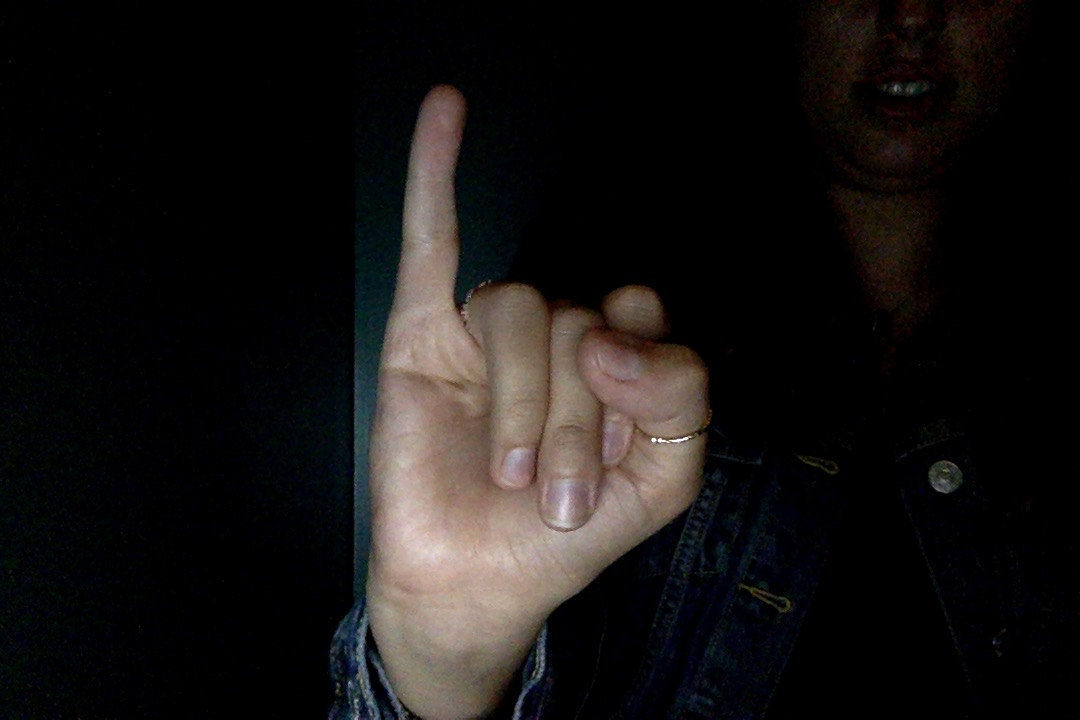i: (346, 66, 745, 715)
